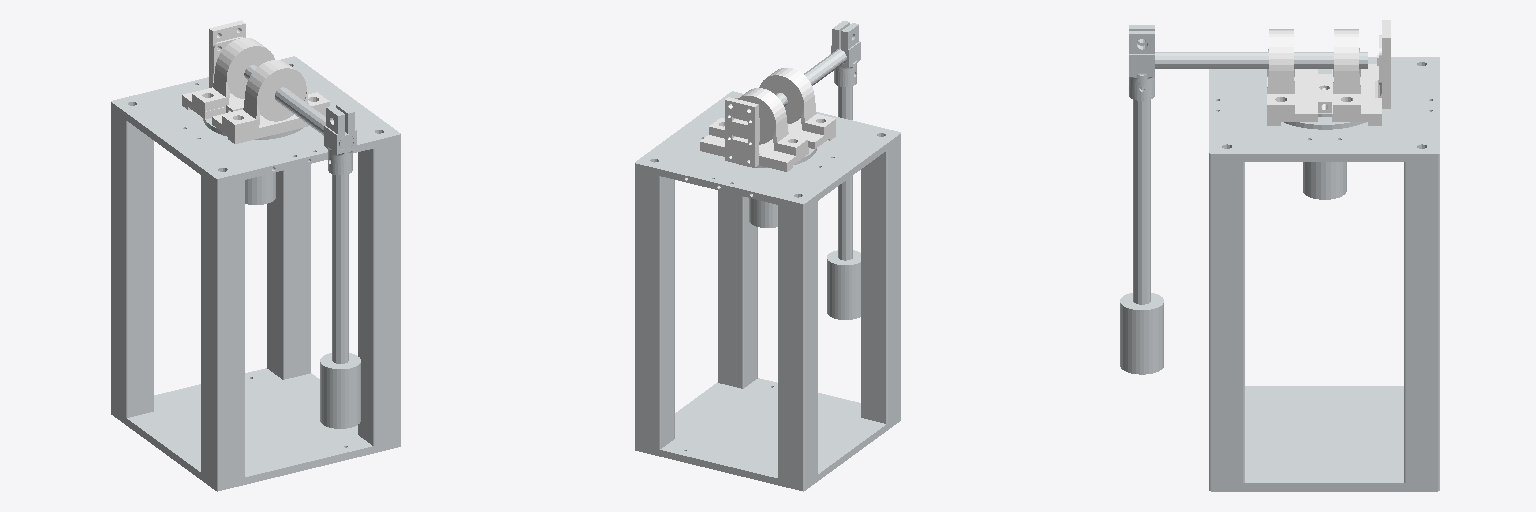
The robot description file, URDF, robot "rlr_urdf":
<?xml version="1.0" encoding="utf-8"?>
<!-- This URDF was automatically created by SolidWorks to URDF Exporter! Originally created by [author] ([email redacted]) 
     Commit Version: 1.6.0-4-g7f85cfe  Build Version: 1.6.7995.38578
     For more information, please see http://wiki.ros.org/sw_urdf_exporter -->
<robot
  name="rlr_urdf">
  <link name="world"/>
  <joint name="base_joint" type="fixed">
    <parent link="world"/>
    <child link="base_link"/>
    <origin rpy="0 0 0" xyz="0.0 0.0 0.0"/>
  </joint>
  <link
    name="base_link">
    <inertial>
      <origin
        xyz="-1.1986E-06 7.7832E-08 0.11985"
        rpy="0 0 0" />
      <mass
        value="1.2532" />
      <inertia
        ixx="0.0031362"
        ixy="-1.0901E-20"
        ixz="-7.4948E-21"
        iyy="0.0031379"
        iyz="-3.1715E-09"
        izz="0.00058069" />
    </inertial>
    <visual>
      <origin
        xyz="0 0 0"
        rpy="0 0 0" />
      <geometry>
        <mesh
          filename="package://urdf and meshes/with weight/meshes/base_link.STL" />
      </geometry>
      <material
        name="">
        <color
          rgba="0.89804 0.91765 0.92941 1" />
      </material>
    </visual>
    <collision>
      <origin
        xyz="0 0 0"
        rpy="0 0 0" />
      <geometry>
        <mesh
          filename="package://urdf and meshes/with weight/meshes/base_link.STL" />
      </geometry>
    </collision>
  </link>
  <link
    name="link1">
    <inertial>
      <origin
        xyz="-0.0047036 0.020545 -7.0911E-11"
        rpy="0 0 0" />
      <mass
        value="0.27749" />
      <inertia
        ixx="8.2467E-05"
        ixy="-2.3535E-06"
        ixz="-1.5223E-13"
        iyy="7.4116E-05"
        iyz="2.4604E-14"
        izz="4.5491E-05" />
    </inertial>
    <visual>
      <origin
        xyz="0 0 0"
        rpy="0 0 0" />
      <geometry>
        <mesh
          filename="package://urdf and meshes/with weight/meshes/link1.STL" />
      </geometry>
      <material
        name="">
        <color
          rgba="1 1 1 1" />
      </material>
    </visual>
    <collision>
      <origin
        xyz="0 0 0"
        rpy="0 0 0" />
      <geometry>
        <mesh
          filename="package://urdf and meshes/with weight/meshes/link1.STL" />
      </geometry>
    </collision>
  </link>
  <joint
    name="joint1"
    type="revolute">
    <origin
      xyz="0 0 0.213"
      rpy="1.5708 0 1.5708" />
    <parent
      link="base_link" />
    <child
      link="link1" />
    <axis
      xyz="0 1 0" />
    <limit
      lower="-3.14"
      upper="3.14"
      effort="0.07"
      velocity="46" />
  </joint>
  <link
    name="link2">
    <inertial>
      <origin
        xyz="2.9269E-06 -0.067898 -0.08221"
        rpy="0 0 0" />
      <mass
        value="0.082618" />
      <inertia
        ixx="0.00010725"
        ixy="-3.0229E-09"
        ixz="-1.9355E-12"
        iyy="4.5749E-05"
        iyz="1.418E-14"
        izz="6.3943E-05" />
    </inertial>
    <visual>
      <origin
        xyz="0 0 0"
        rpy="0 0 0" />
      <geometry>
        <mesh
          filename="package://urdf and meshes/with weight/meshes/link2.STL" />
      </geometry>
      <material
        name="">
        <color
          rgba="0.89804 0.91765 0.92941 1" />
      </material>
    </visual>
    <collision>
      <origin
        xyz="0 0 0"
        rpy="0 0 0" />
      <geometry>
        <mesh
          filename="package://urdf and meshes/with weight/meshes/link2.STL" />
      </geometry>
    </collision>
  </link>
  <joint
    name="joint2"
    type="continuous">
    <origin
      xyz="0 0.025 0"
      rpy="0 1.5708 0" />
    <parent
      link="link1" />
    <child
      link="link2" />
    <axis
      xyz="0 0 1" />
  </joint>
</robot>

--- What the picture shows (computed from the rendered views, not written in the file) ---
Views: 3 orthographic renders of the robot side by side, from view 1: azimuth 30°, elevation 25°; view 2: azimuth 150°, elevation 25°; view 3: azimuth 270°, elevation 25°.
Robot: rlr_urdf — 4 links, 3 joints (1 revolute, 1 continuous, 1 fixed); root link world; default pose: every joint at zero.
Links seen in each view (by area): view 1: base_link, link1, link2; view 2: base_link, link1, link2; view 3: base_link, link2, link1.
Boxes of the visible links, <box> form: base_link: <box>111,56,400,491</box>; link1: <box>182,20,329,143</box>; link2: <box>244,65,360,428</box>; base_link: <box>635,91,900,491</box>; link1: <box>700,68,835,171</box>; link2: <box>776,21,860,319</box>; base_link: <box>1209,57,1439,491</box>; link2: <box>1120,25,1367,374</box>; link1: <box>1267,20,1390,125</box>.
Size in the robot's own frame: 0.13 by 0.1804 by 0.2575 metres.
Meshes: 3 distinct files referenced, 3 mesh visuals loaded (3 binary STL).